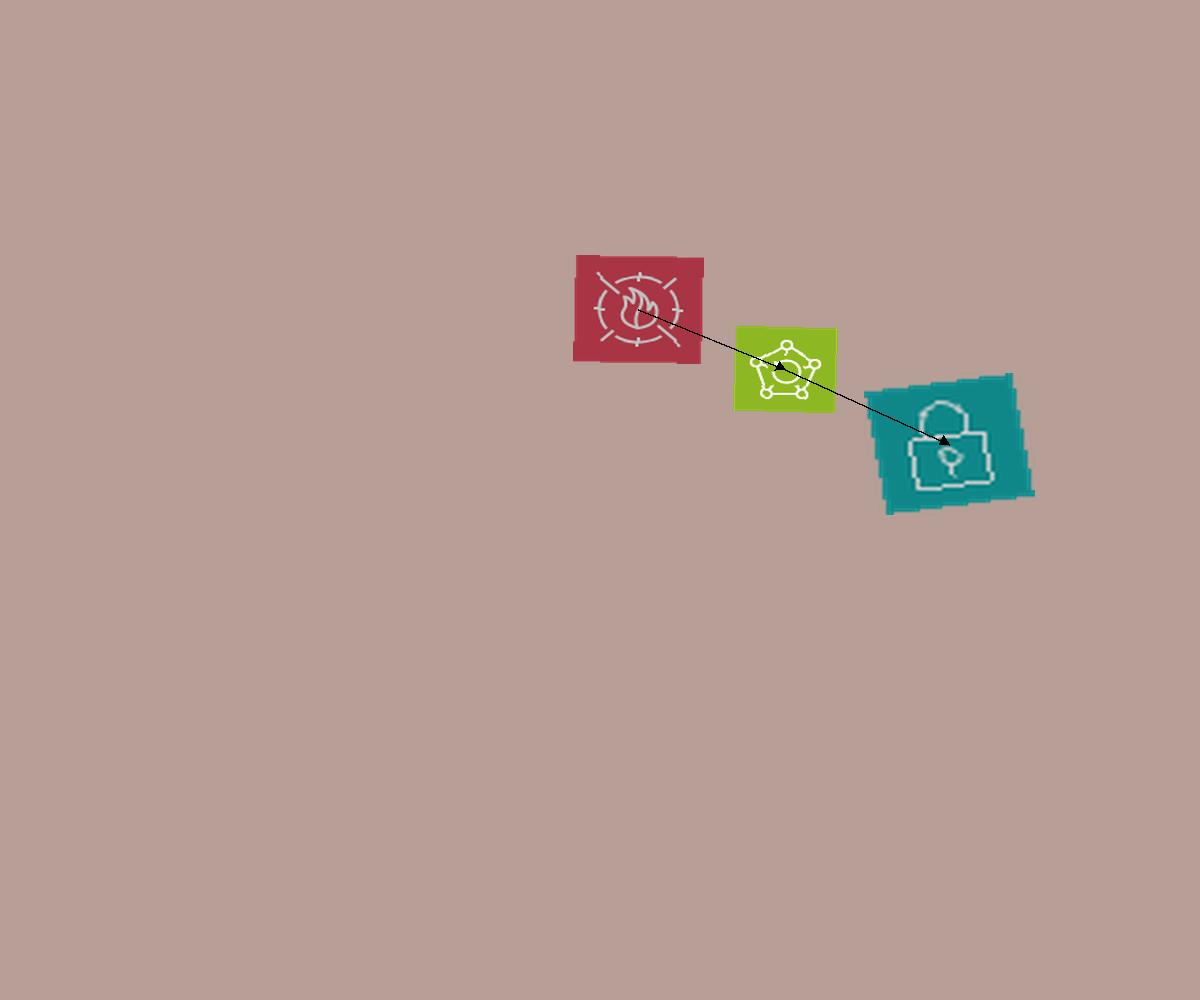AWS-Backup: (732, 325, 839, 414)
AWS-Private-subnet: (864, 373, 1035, 515)
AWS-WAF: (573, 255, 704, 364)
